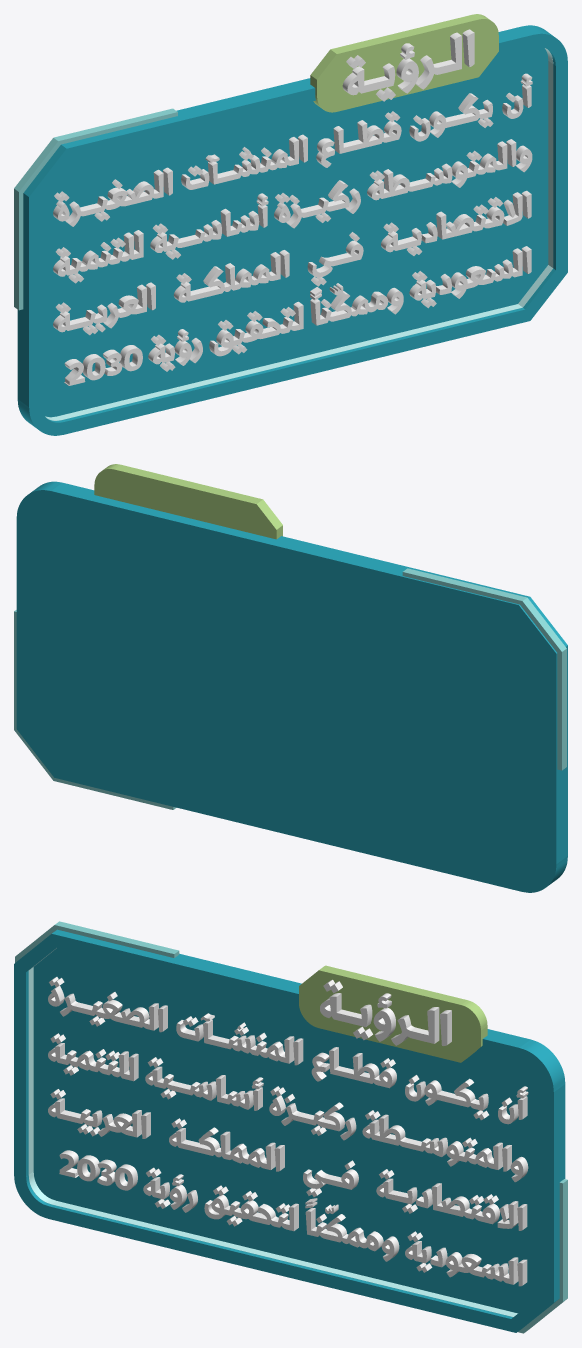
The model's file is first model.glb.
The picture shows the model from 3 angles, top to bottom: view 1: azimuth 30°, elevation 25°; view 2: azimuth 150°, elevation 25°; view 3: azimuth 330°, elevation 25°; orthographic projection.
Visible parts, largest first — view 1: Shape013, SShape001, Shape011, Shape008, Shape018, SShape005, SShape004; view 2: Shape013, Shape011, Shape008, SShape004; view 3: Shape013, SShape001, Shape011, Shape008, Shape018, SShape005, SShape004.
Part boxes in pixels (<box>): Shape013: <box>41,47,548,417</box>; SShape001: <box>53,73,532,385</box>; Shape011: <box>17,25,567,435</box>; Shape008: <box>310,14,498,112</box>; Shape018: <box>45,48,553,420</box>; SShape005: <box>342,29,474,101</box>; SShape004: <box>14,108,177,310</box>; Shape013: <box>28,503,544,879</box>; Shape011: <box>16,481,567,892</box>; Shape008: <box>94,464,282,539</box>; SShape004: <box>14,568,566,809</box>; Shape013: <box>33,948,541,1313</box>; SShape001: <box>48,977,528,1286</box>; Shape011: <box>14,929,565,1332</box>; Shape008: <box>299,965,487,1062</box>; Shape018: <box>28,948,517,1316</box>; SShape005: <box>320,979,451,1045</box>; SShape004: <box>15,921,567,1333</box>.
Size of the model in its own units: 192 by 108 by 10.99.
